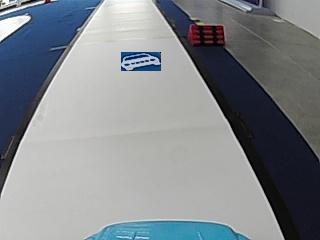bomb: (187, 23, 225, 44)
